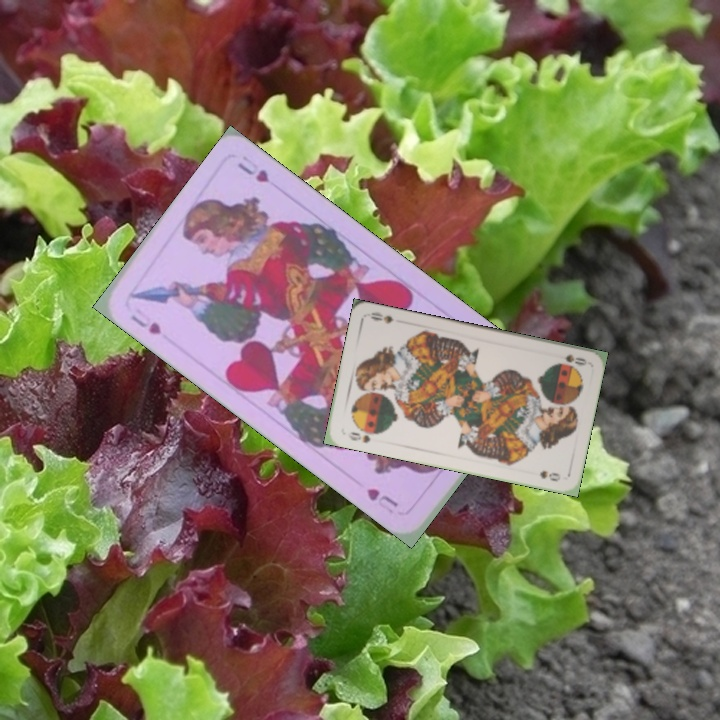HU: (127, 311, 165, 338)
SO: (343, 426, 382, 446), (561, 350, 589, 368)
